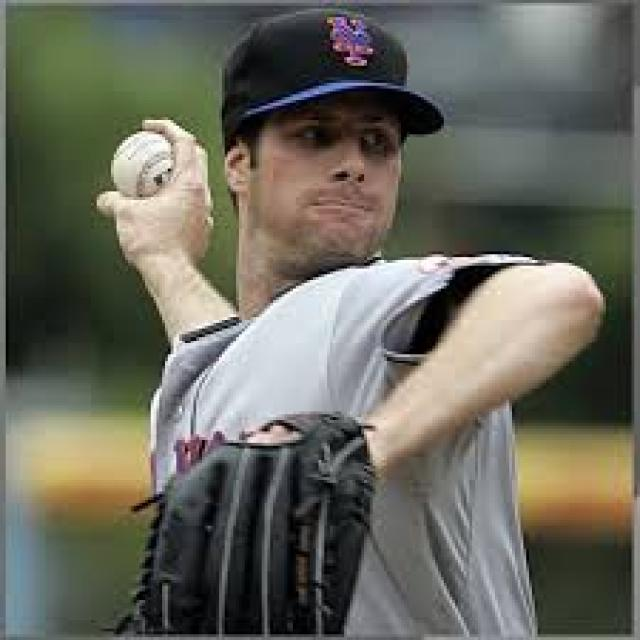cap: (188, 0, 461, 209)
